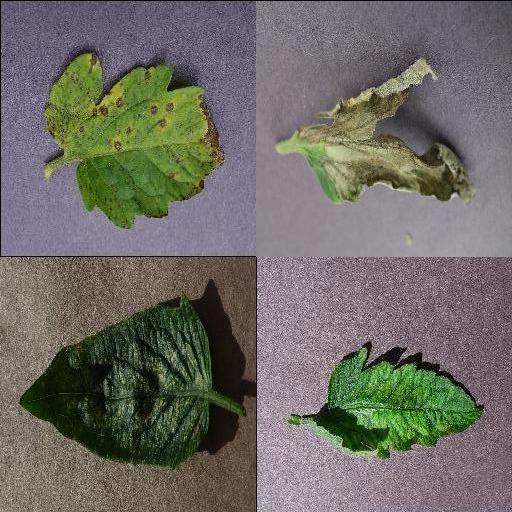Late Blight: (302, 56, 478, 204)
Mosaic Virus: (312, 347, 486, 463)
Septoria: (44, 50, 226, 229)
Spider Mites: (19, 296, 213, 466)
